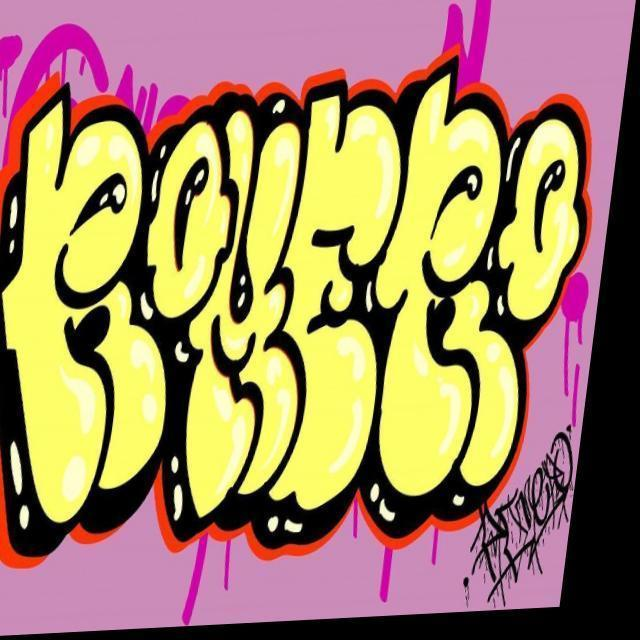nonspitting: (0, 46, 591, 556), (464, 422, 576, 608)
